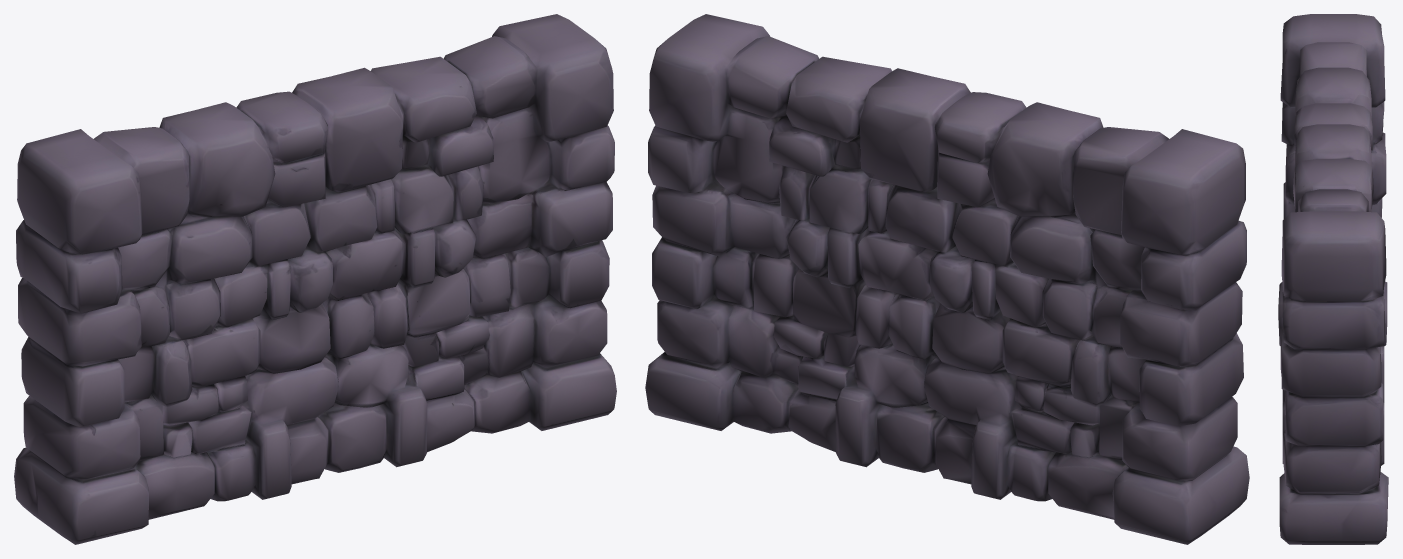
Rendered from stone_wall_3d_model_2.fbx.
3 renders of one model, left to right at view 1: azimuth 30°, elevation 25°; view 2: azimuth 150°, elevation 25°; view 3: azimuth 270°, elevation 25°, orthographic. The views are drawn at different scales.
Visible parts, largest first — view 1: tripo_node_e1f9eac2-e63a-4566-9a99-6c3bce3ca5fc; view 2: tripo_node_e1f9eac2-e63a-4566-9a99-6c3bce3ca5fc; view 3: tripo_node_e1f9eac2-e63a-4566-9a99-6c3bce3ca5fc.
Boxes of the visible parts, <box> form: tripo_node_e1f9eac2-e63a-4566-9a99-6c3bce3ca5fc: <box>14,14,616,544</box>; tripo_node_e1f9eac2-e63a-4566-9a99-6c3bce3ca5fc: <box>645,14,1249,544</box>; tripo_node_e1f9eac2-e63a-4566-9a99-6c3bce3ca5fc: <box>1278,14,1388,544</box>.
Bounding box in the file's own units: 0.9797 × 0.6269 × 0.2013.
Materials: 1 (1 with a texture image).
